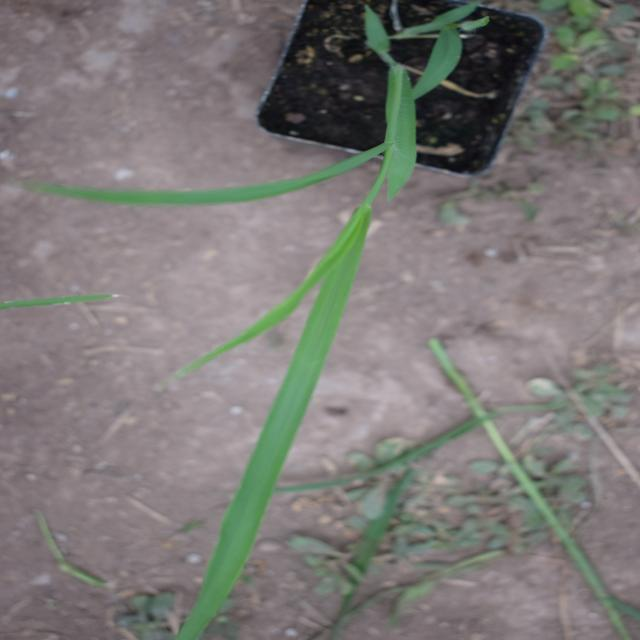crabgrass: (78, 201, 600, 558)
